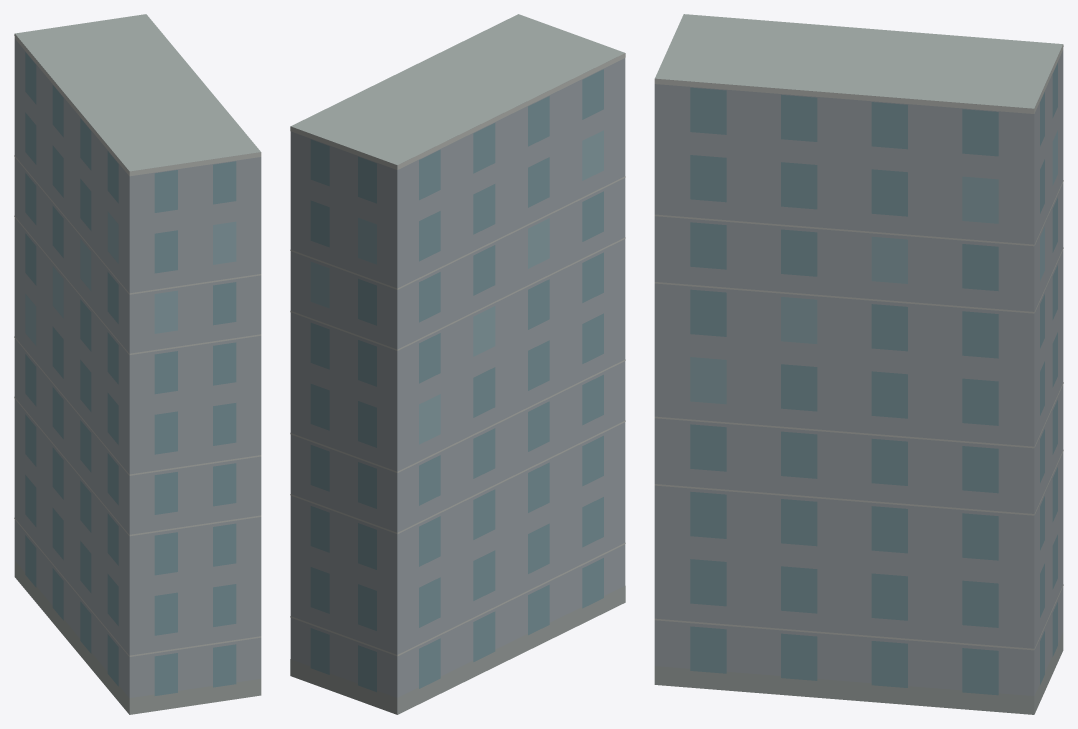
File: survey-upis-32670839.glb
The picture shows the model from 3 angles, left to right: view 1: azimuth 30°, elevation 25°; view 2: azimuth 150°, elevation 25°; view 3: azimuth 270°, elevation 25°; orthographic projection. The views are drawn at different scales.
Visible parts, largest first — view 1: survey-upis-32670839.tmp; view 2: survey-upis-32670839.tmp; view 3: survey-upis-32670839.tmp.
Part boxes in pixels (left/top/right/bottom): survey-upis-32670839.tmp: left=14, top=14, right=261, bottom=714; survey-upis-32670839.tmp: left=290, top=14, right=625, bottom=714; survey-upis-32670839.tmp: left=654, top=14, right=1063, bottom=714.
Size of the model in its own units: 9.14 by 27.2 by 16.64.
